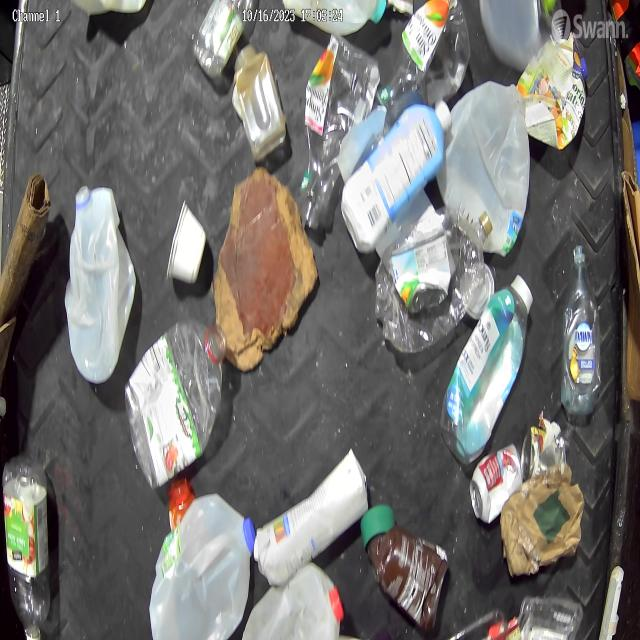milk_jug: (146, 490, 261, 640), (442, 71, 534, 252), (67, 180, 135, 373), (244, 569, 344, 640)
plastic_bottle: (300, 33, 383, 223), (382, 0, 467, 107), (558, 243, 604, 429), (1, 460, 48, 640)
